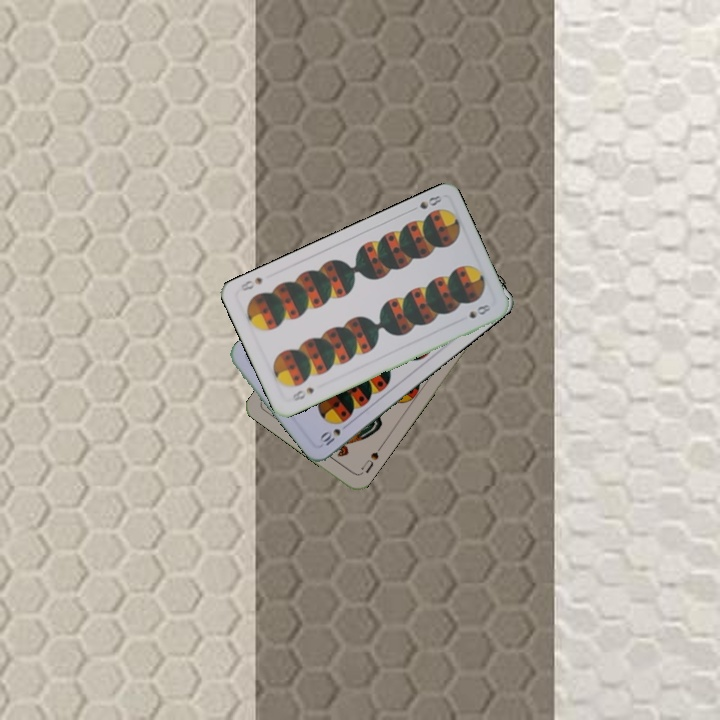S10: (315, 419, 352, 451)
S8: (405, 191, 445, 215), (288, 383, 316, 404)
SU: (356, 442, 385, 475)
